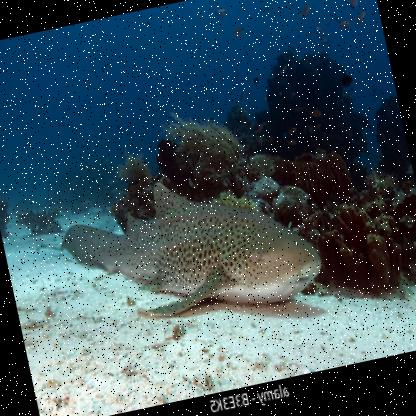zebra_shark: (35, 132, 344, 357)
